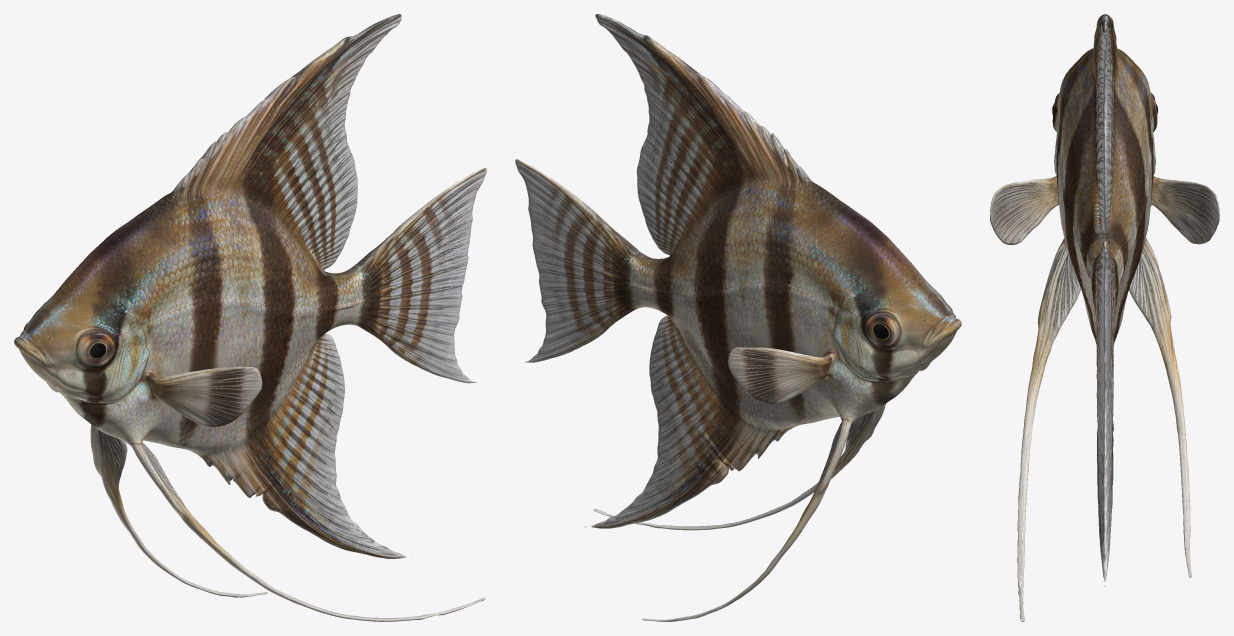
Rendered from freshwater+angelfish+3d+model.glb.
3 renders of one model, left to right at view 1: azimuth 30°, elevation 25°; view 2: azimuth 150°, elevation 25°; view 3: azimuth 270°, elevation 25°, orthographic. The views are drawn at different scales.
Parts seen in each view (by area): view 1: tripo_node_0c90c366-a032-4ee5-b937-ffb3f67175c5; view 2: tripo_node_0c90c366-a032-4ee5-b937-ffb3f67175c5; view 3: tripo_node_0c90c366-a032-4ee5-b937-ffb3f67175c5.
Part boxes in pixels (<box>): tripo_node_0c90c366-a032-4ee5-b937-ffb3f67175c5: <box>14,14,486,621</box>; tripo_node_0c90c366-a032-4ee5-b937-ffb3f67175c5: <box>515,14,961,621</box>; tripo_node_0c90c366-a032-4ee5-b937-ffb3f67175c5: <box>990,14,1219,621</box>.
Size of the model in its own units: 0.8355 by 0.9982 by 0.3509.
1 material, 1 textured.
